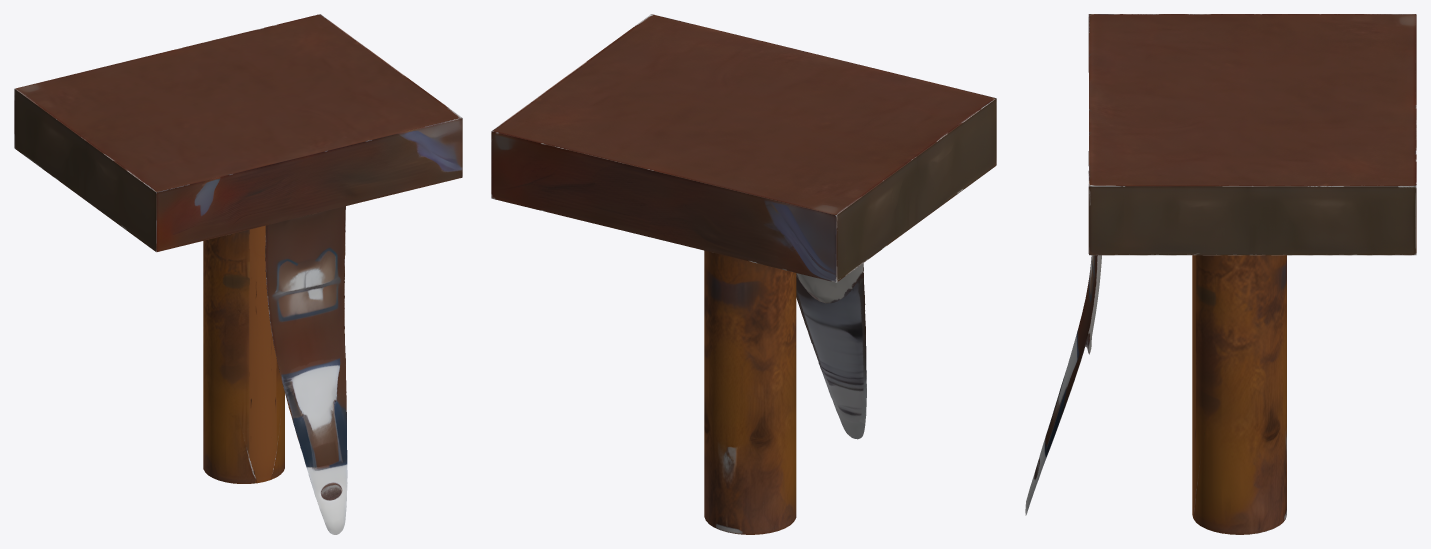
3 renders of one model, left to right at view 1: azimuth 30°, elevation 25°; view 2: azimuth 150°, elevation 25°; view 3: azimuth 270°, elevation 25°, orthographic. The views are drawn at different scales.
Visible parts, largest first — view 1: model; view 2: model; view 3: model.
Part boxes in pixels (x1=…): model: x1=14, y1=14, x2=462, y2=534; model: x1=491, y1=14, x2=996, y2=534; model: x1=1025, y1=14, x2=1416, y2=534.
Bounding box in the file's own units: 1.69 × 1.9 × 1.62.
Materials: 1 (1 with a texture image).
